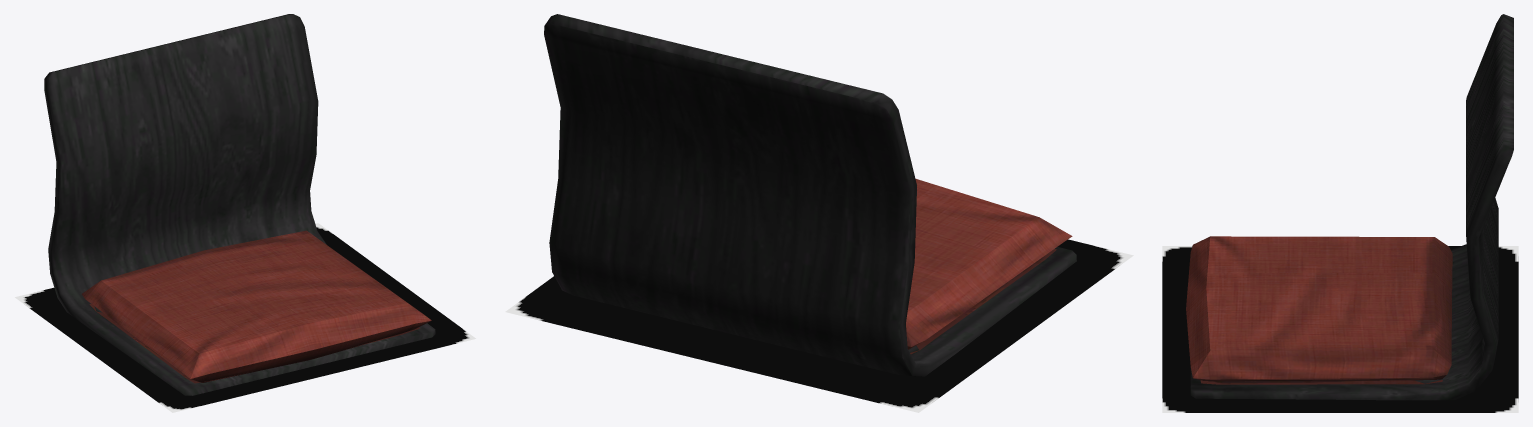
The model's file is jj_rixi_yizi01.FBX.
The picture shows the model from 3 angles, left to right: view 1: azimuth 30°, elevation 25°; view 2: azimuth 150°, elevation 25°; view 3: azimuth 270°, elevation 25°; orthographic projection. The views are drawn at different scales.
Parts seen in each view (by area): view 1: jj_rixi_yizi01, shadow; view 2: jj_rixi_yizi01, shadow; view 3: jj_rixi_yizi01, shadow.
Boxes of the visible parts, <box> form: jj_rixi_yizi01: <box>44,14,435,395</box>; shadow: <box>15,223,475,412</box>; jj_rixi_yizi01: <box>544,14,1076,376</box>; shadow: <box>505,239,1133,412</box>; jj_rixi_yizi01: <box>1186,14,1513,400</box>; shadow: <box>1162,246,1518,412</box>.
Size of the model in its own units: 93.4 by 66.75 by 84.12.
